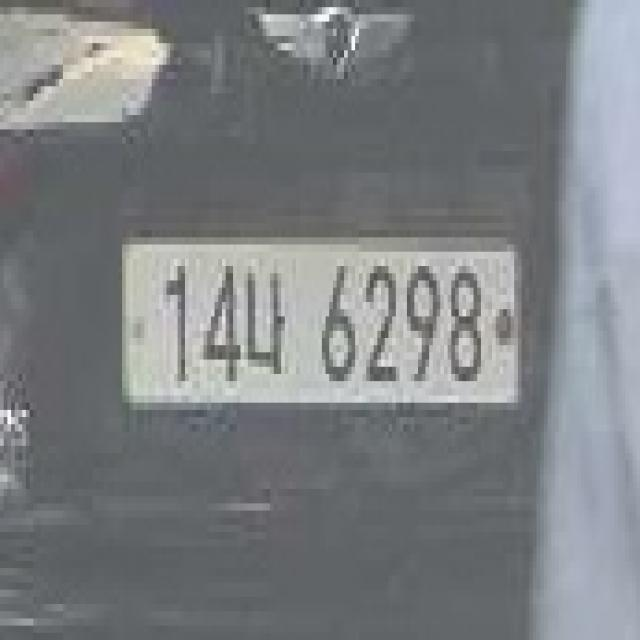1: (155, 252, 196, 410)
2: (359, 259, 403, 410)
4: (196, 266, 244, 396)
6: (314, 259, 359, 403)
8: (440, 252, 485, 396)
9: (407, 259, 444, 395)
license_plate: (111, 223, 529, 431)
na: (240, 259, 296, 403)
